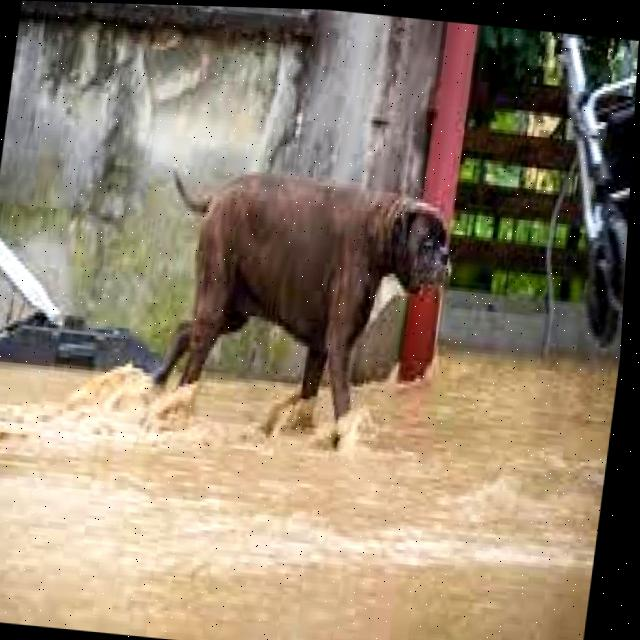dog: (127, 159, 471, 463)
